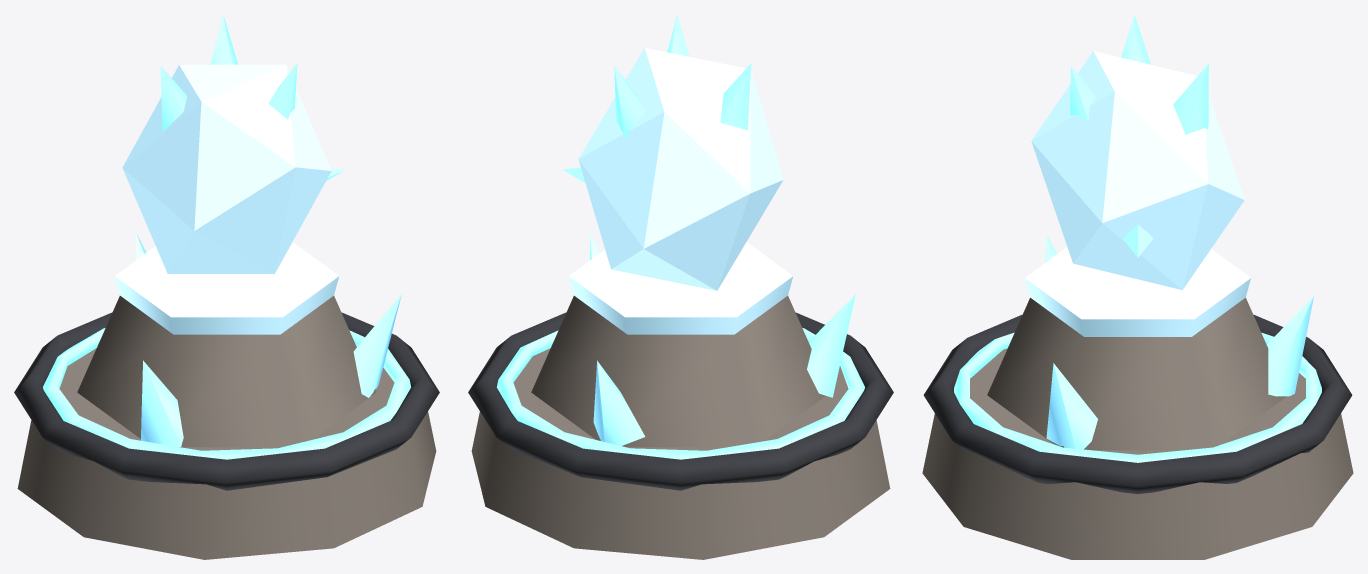
The model's file is tower_freeze_deepFrost.glb.
3 views of the same model, side by side, from view 1: azimuth 30°, elevation 25°; view 2: azimuth 150°, elevation 25°; view 3: azimuth 270°, elevation 25° (orthographic).
Parts seen in each view (by area): view 1: base, ice_block, pedestal, base_rim, pedestal_frost, aura_ring, side_crystal_1, side_crystal_0, block_spike_1, block_spike_0, block_spike_2; view 2: ice_block, base, pedestal, base_rim, pedestal_frost, aura_ring, side_crystal_1, side_crystal_2, block_spike_1, block_spike_2; view 3: base, ice_block, pedestal, base_rim, pedestal_frost, aura_ring, side_crystal_0, side_crystal_2, block_spike_2, block_spike_0, block_spike_1, emitter.
Part boxes in pixels (x1=…): base: x1=17, y1=348, x2=436, y2=559; ice_block: x1=122, y1=64, x2=331, y2=273; pedestal: x1=77, y1=296, x2=376, y2=447; base_rim: x1=14, y1=312, x2=439, y2=490; pedestal_frost: x1=114, y1=242, x2=339, y2=334; aura_ring: x1=43, y1=328, x2=411, y2=459; side_crystal_1: x1=141, y1=360, x2=183, y2=446; side_crystal_0: x1=353, y1=294, x2=401, y2=397; block_spike_1: x1=160, y1=66, x2=187, y2=131; block_spike_0: x1=268, y1=63, x2=297, y2=119; block_spike_2: x1=210, y1=14, x2=237, y2=64; ice_block: x1=578, y1=48, x2=783, y2=290; base: x1=471, y1=348, x2=890, y2=559; pedestal: x1=531, y1=296, x2=825, y2=447; base_rim: x1=468, y1=312, x2=893, y2=490; pedestal_frost: x1=568, y1=242, x2=793, y2=334; aura_ring: x1=496, y1=328, x2=864, y2=459; side_crystal_1: x1=807, y1=294, x2=855, y2=397; side_crystal_2: x1=593, y1=360, x2=645, y2=445; block_spike_1: x1=720, y1=63, x2=751, y2=130; block_spike_2: x1=614, y1=66, x2=645, y2=137; base: x1=922, y1=348, x2=1353, y2=559; ice_block: x1=1031, y1=51, x2=1244, y2=289; pedestal: x1=987, y1=297, x2=1286, y2=450; base_rim: x1=923, y1=314, x2=1352, y2=493; pedestal_frost: x1=1025, y1=247, x2=1250, y2=336; aura_ring: x1=954, y1=332, x2=1321, y2=462; side_crystal_0: x1=1046, y1=363, x2=1097, y2=449; side_crystal_2: x1=1267, y1=296, x2=1313, y2=396; block_spike_2: x1=1173, y1=63, x2=1208, y2=134; block_spike_0: x1=1070, y1=66, x2=1096, y2=122; block_spike_1: x1=1121, y1=14, x2=1150, y2=64; emitter: x1=1122, y1=224, x2=1153, y2=257.
Size of the model in its own units: 0.398 by 0.4358 by 0.4.
